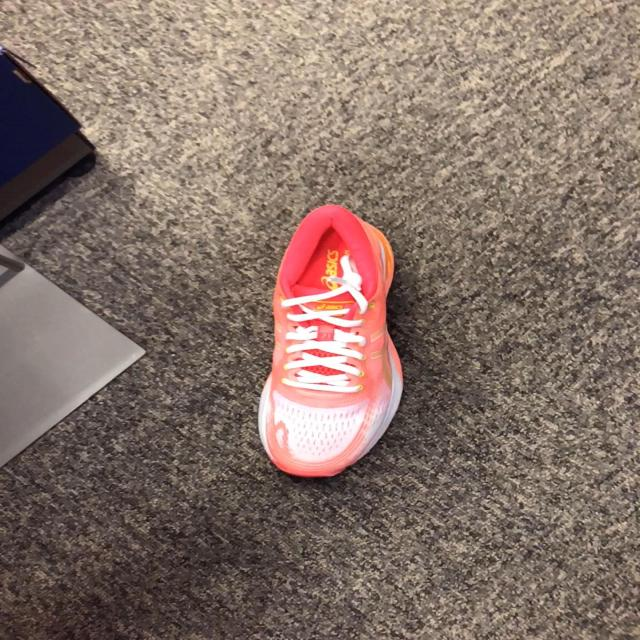shoe: (257, 205, 405, 482)
